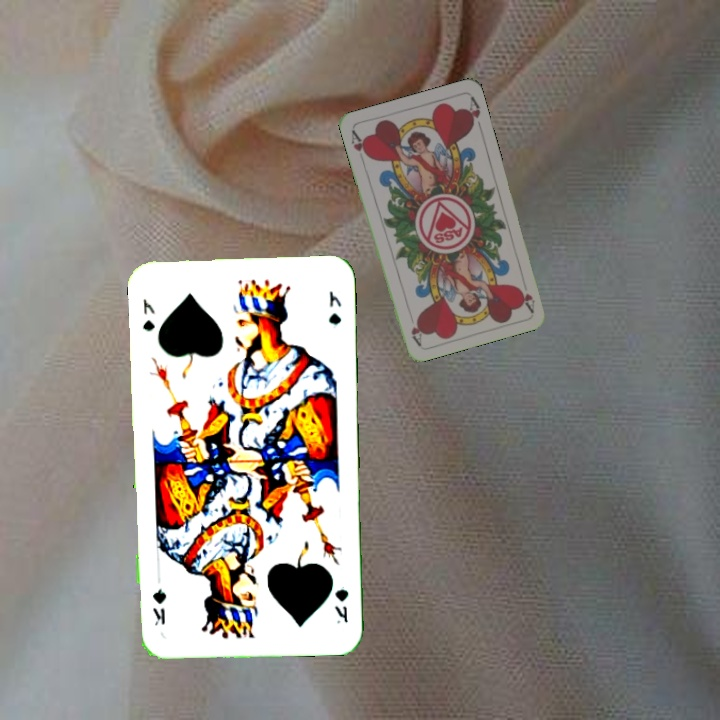GK: (330, 585, 351, 626), (138, 294, 158, 334)
HA: (347, 126, 372, 166), (514, 283, 537, 314)
